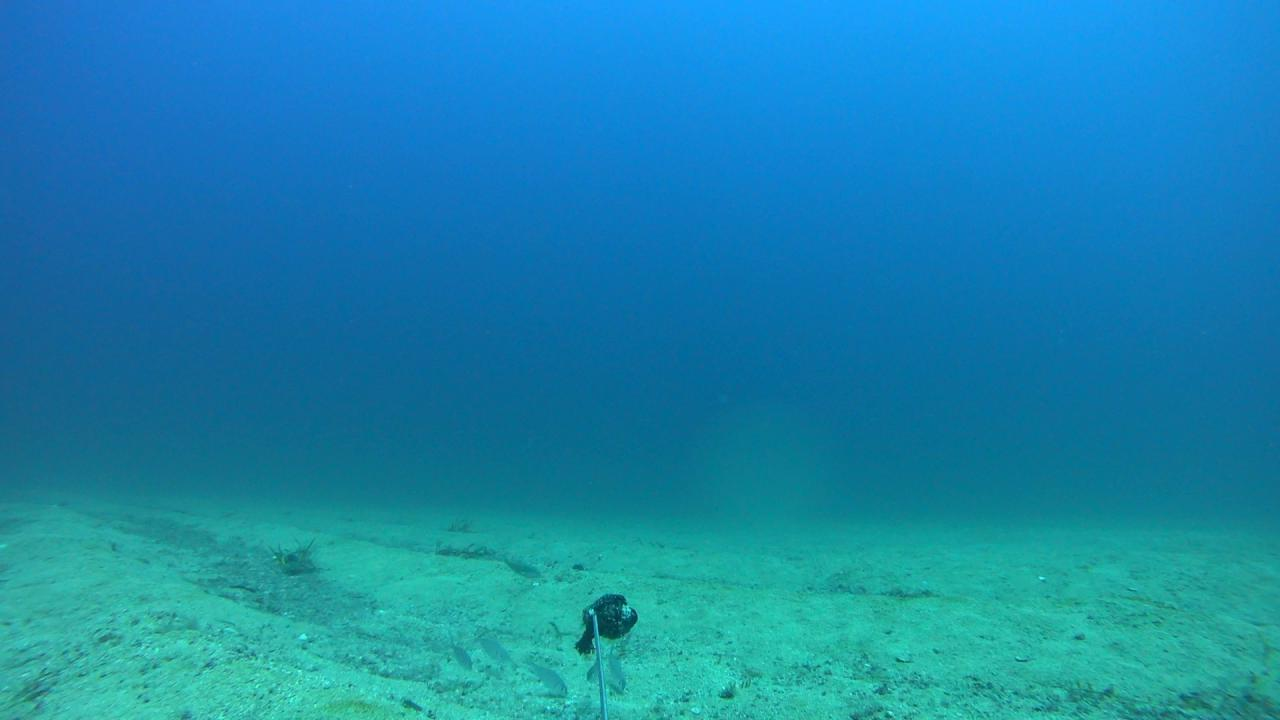pagellus: (524, 653, 565, 698), (474, 634, 511, 662), (447, 636, 473, 674), (607, 644, 629, 686)
